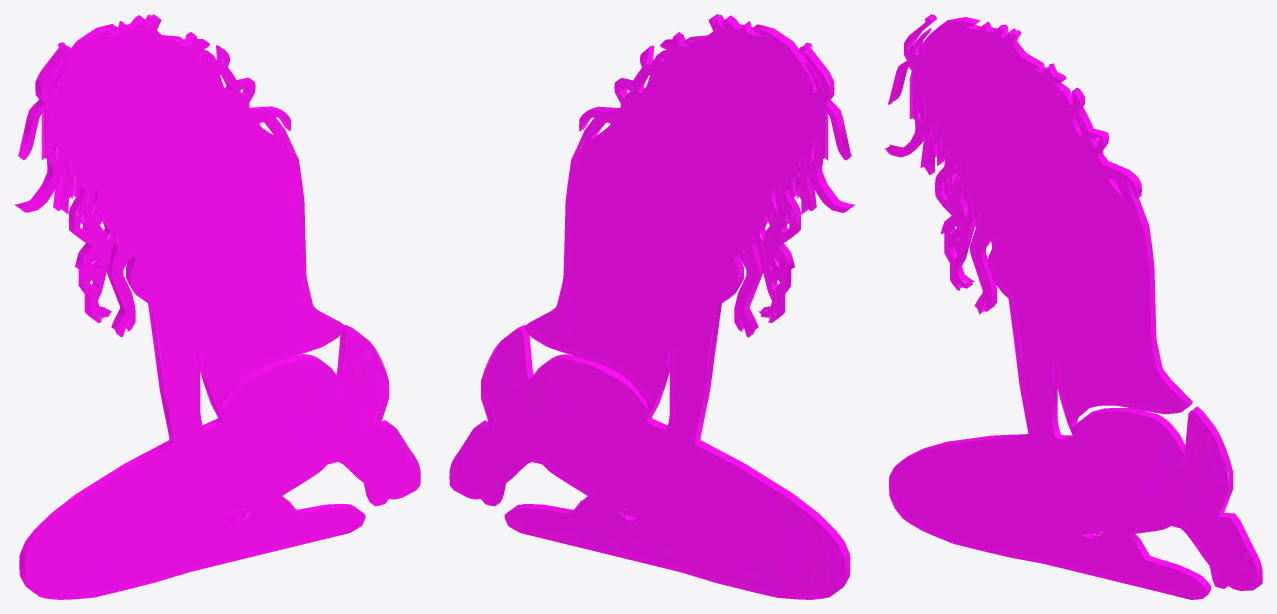
The model's file is neon_woman.glb.
The picture shows the model from 3 angles, left to right: view 1: azimuth 30°, elevation 25°; view 2: azimuth 150°, elevation 25°; view 3: azimuth 330°, elevation 25°; orthographic projection. The views are drawn at different scales.
Visible parts, largest first — view 1: neon_woman; view 2: neon_woman; view 3: neon_woman.
Part boxes in pixels (x1,y1,x2,y2): neon_woman: (14, 14, 420, 599); neon_woman: (449, 14, 855, 599); neon_woman: (884, 14, 1262, 599).
Size of the model in its own units: 1.17 by 1.58 by 0.0278.
Materials: 1 (1 with a texture image).
